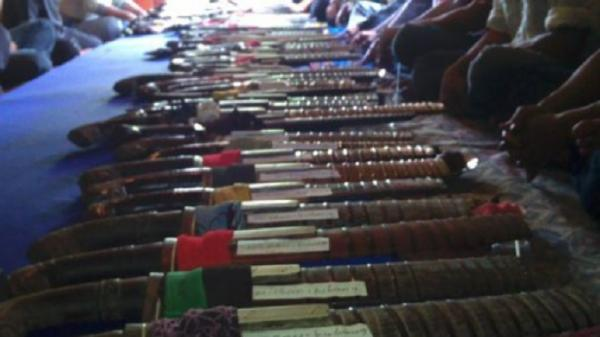facao: (0, 266, 568, 308), (27, 214, 532, 252), (89, 296, 589, 323), (76, 156, 461, 186), (118, 122, 438, 150), (127, 94, 449, 116), (112, 66, 393, 82)
